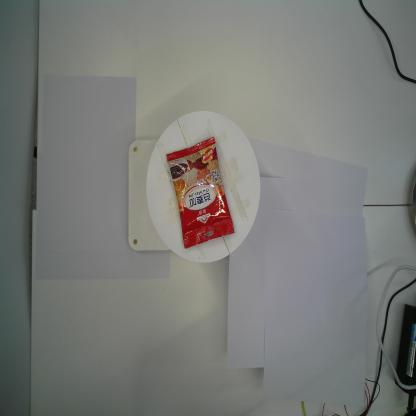Instant Drink: (166, 136, 234, 249)
